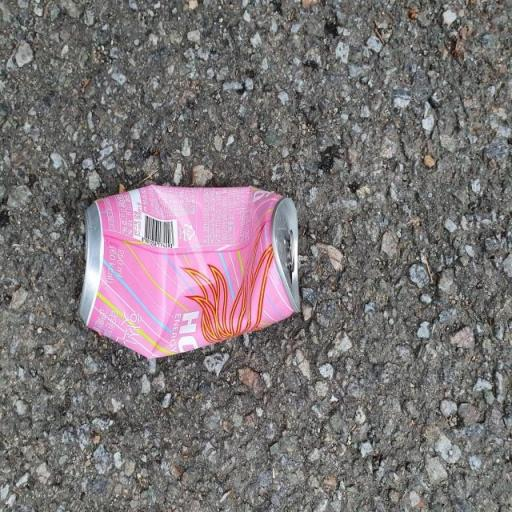metal: (63, 164, 312, 380)
